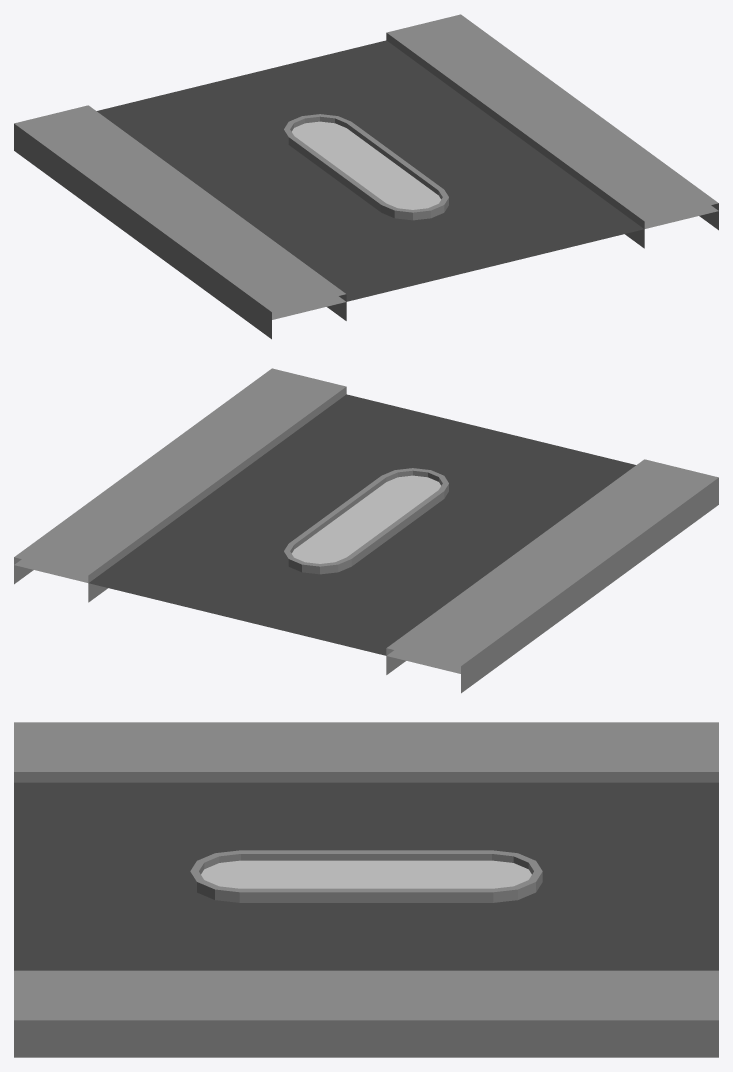
3 views of the same model, one above another, from view 1: azimuth 30°, elevation 25°; view 2: azimuth 150°, elevation 25°; view 3: azimuth 270°, elevation 25° (orthographic). The views are drawn at different scales.
Visible parts, largest first — view 1: Model_0, Skybox, Grass; view 2: Model_0, Skybox, Grass; view 3: Model_0, Skybox, Grass.
Boxes of the visible parts, x1=… form: Model_0: x1=14, y1=14, x2=718, y2=339; Skybox: x1=97, y1=40, x2=718, y2=319; Grass: x1=292, y1=121, x2=441, y2=209; Model_0: x1=14, y1=368, x2=718, y2=693; Skybox: x1=14, y1=407, x2=623, y2=673; Grass: x1=291, y1=475, x2=440, y2=563; Model_0: x1=14, y1=722, x2=718, y2=1057; Skybox: x1=14, y1=782, x2=718, y2=970; Grass: x1=201, y1=860, x2=531, y2=888.
Size of what is drawn, in the model's own units: 2400 by 140 by 2400.
